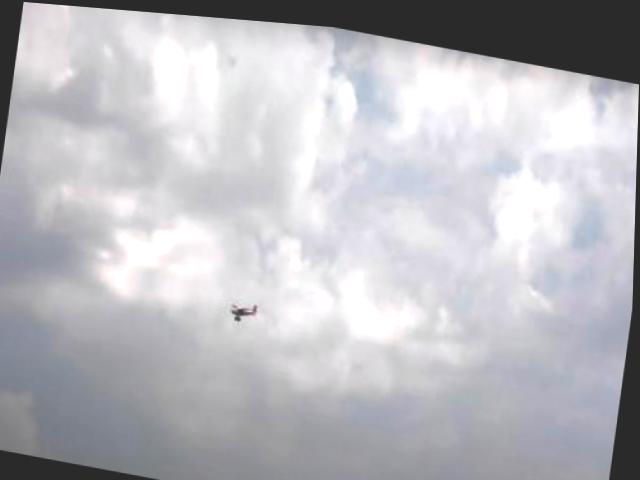uav: (228, 292, 263, 324)
